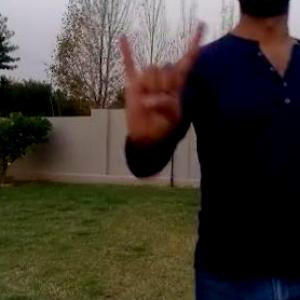takeoff-hand: (113, 15, 212, 150)
